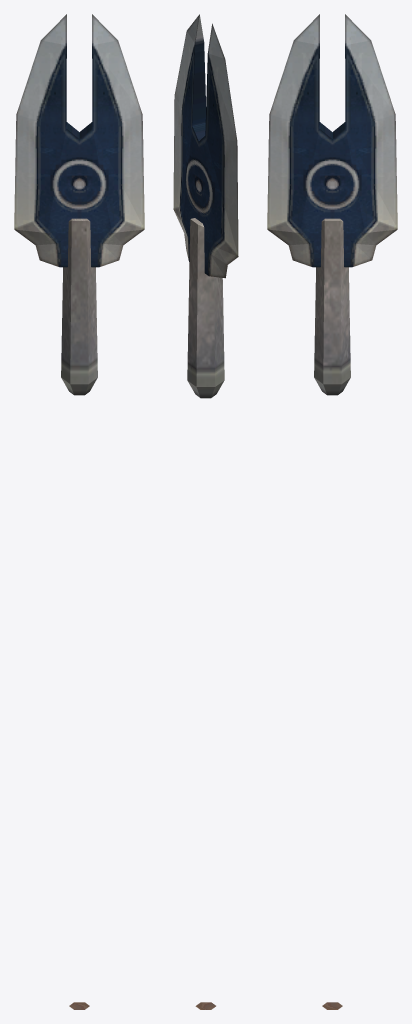
The model's file is Whale_lancerWeapon_Lance.obj.
3 views of the same model, side by side, from view 1: azimuth 90°, elevation 25°; view 2: azimuth 210°, elevation 25°; view 3: azimuth 270°, elevation 25° (orthographic).
Parts seen in each view (by area): view 1: Whale_lancerWeapon_tri [Lance]; view 2: Whale_lancerWeapon_tri [Lance]; view 3: Whale_lancerWeapon_tri [Lance].
Boxes of the visible parts, left/top/right/bottom form: Whale_lancerWeapon_tri [Lance]: left=14, top=14, right=144, bottom=1009; Whale_lancerWeapon_tri [Lance]: left=173, top=14, right=238, bottom=1009; Whale_lancerWeapon_tri [Lance]: left=267, top=14, right=397, bottom=1009.
Bounding box in the file's own units: 0.0871 × 2.91 × 0.3478.
1 material, 1 textured.
